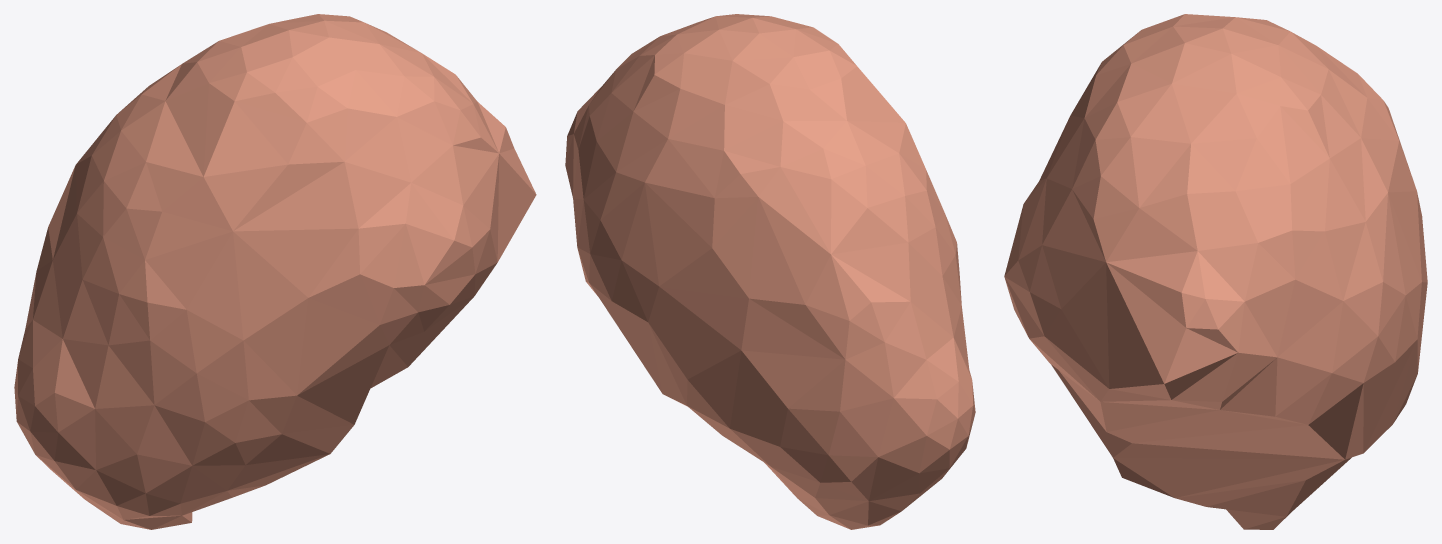
File: Model_10657_LH__Posterior_interposed_cerebellar_nucleus_(IntP).obj
3 renders of one model, left to right at view 1: azimuth 30°, elevation 25°; view 2: azimuth 150°, elevation 25°; view 3: azimuth 270°, elevation 25°, orthographic. The views are drawn at different scales.
Bounding box in the file's own units: 0.8391 × 0.8333 × 0.5768.
